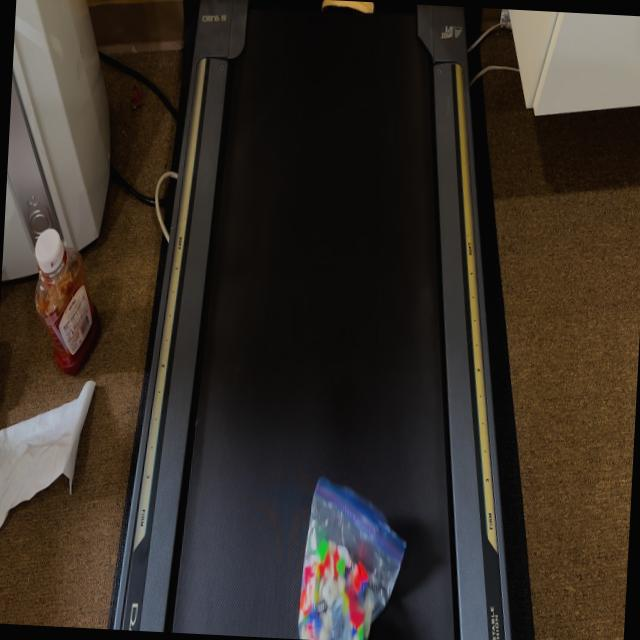Trash: (298, 466, 426, 640)
